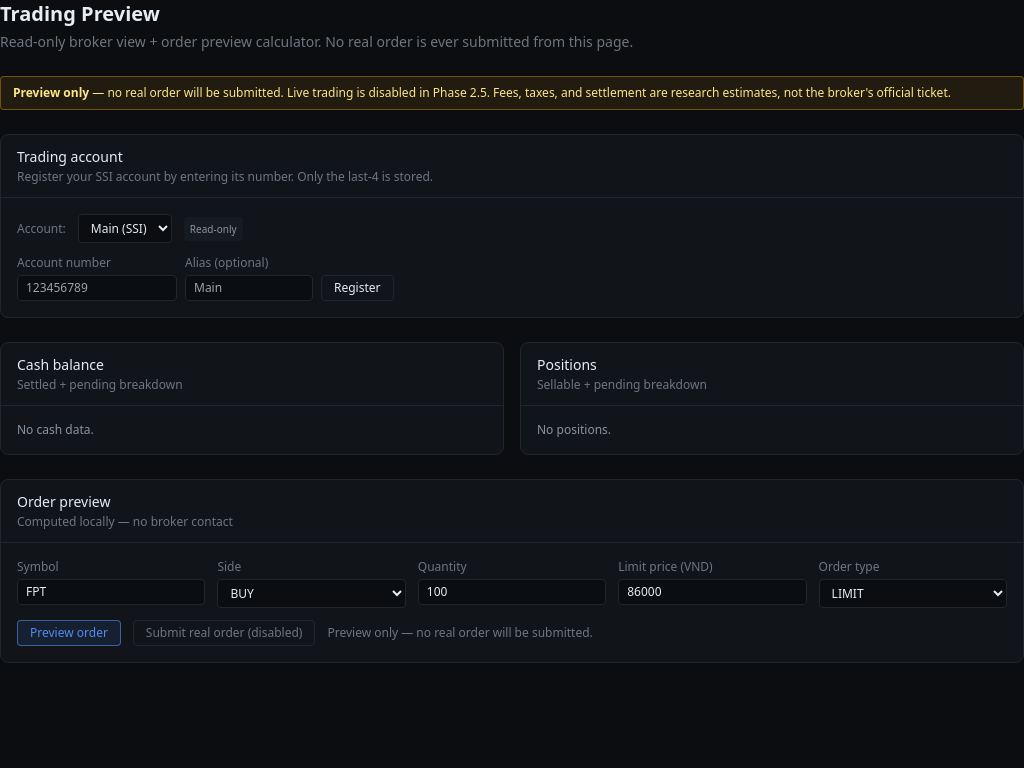
Test: TradingPreviewPage › renders the T+2 warning text after a SELL preview
This screenshot has width=1024, height=768.
Expected: the form with test id "preview-form" is shown, [17,559,1007,646]
# Switch to SELL side via the form select.
Select "SELL" in the dropdown with test id "input-side" at (312, 594), box [217,579,406,608]
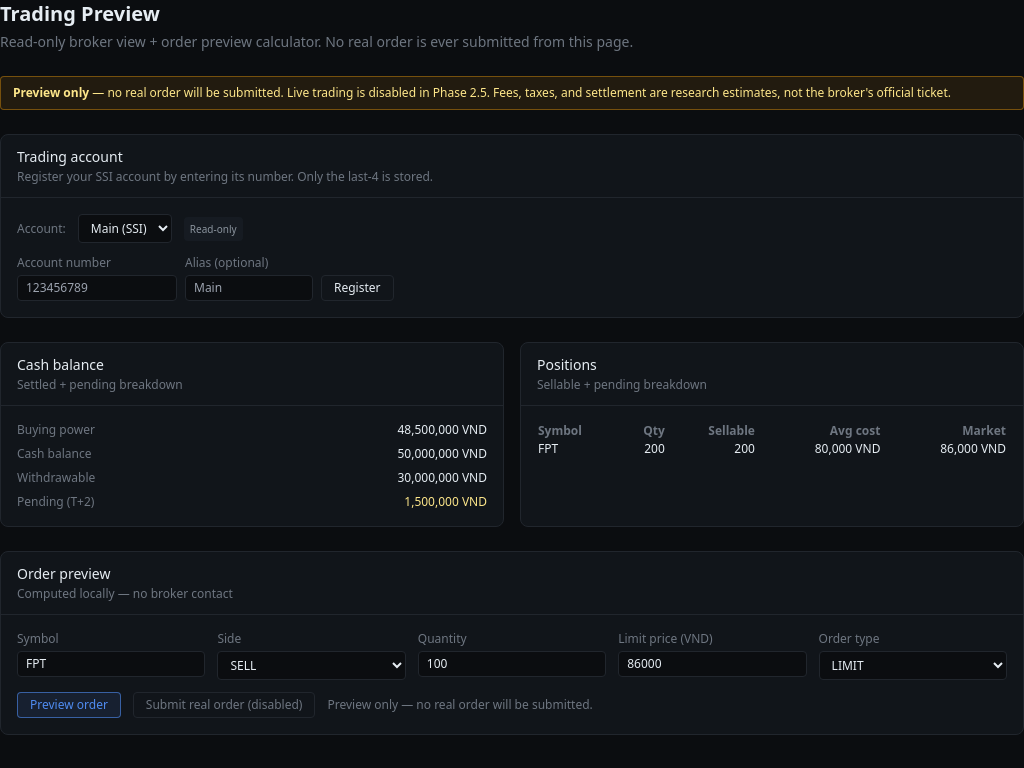
Submit the form with test id "preview-form", box [17,631,1007,718]
(page scrolled)
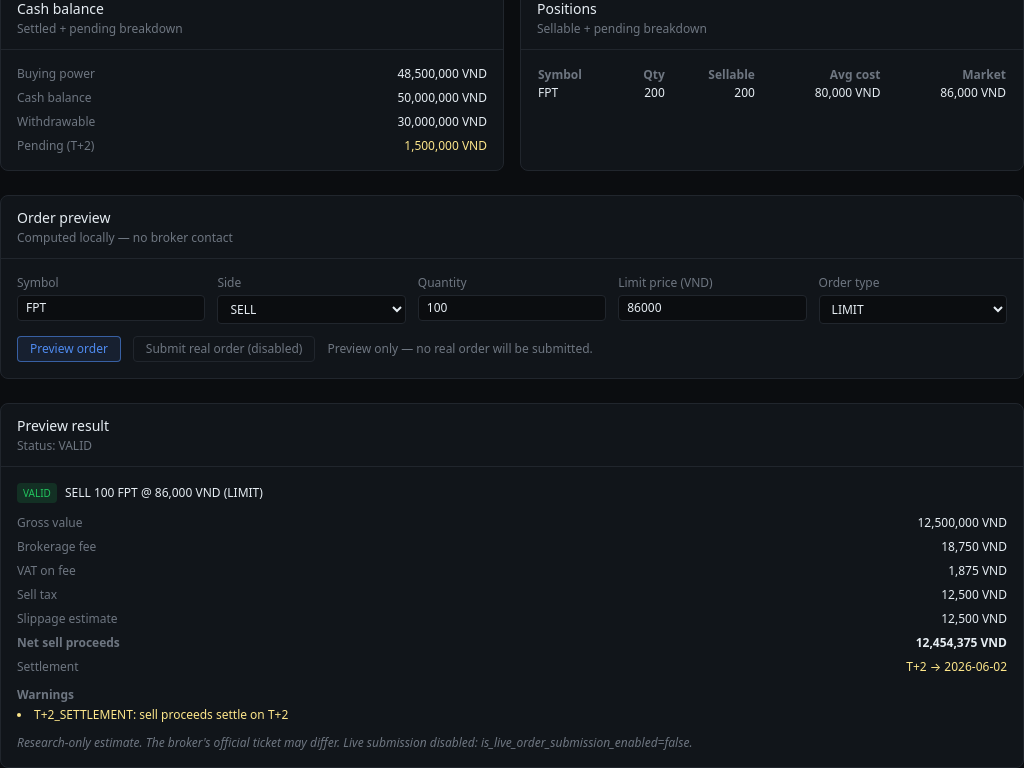
Now the element with test id "result-warnings" is shown, box [17,686,288,723]
Now the element with test id "result-warnings" shows "T+2_SETTLEMENT", box [34,706,288,723]
